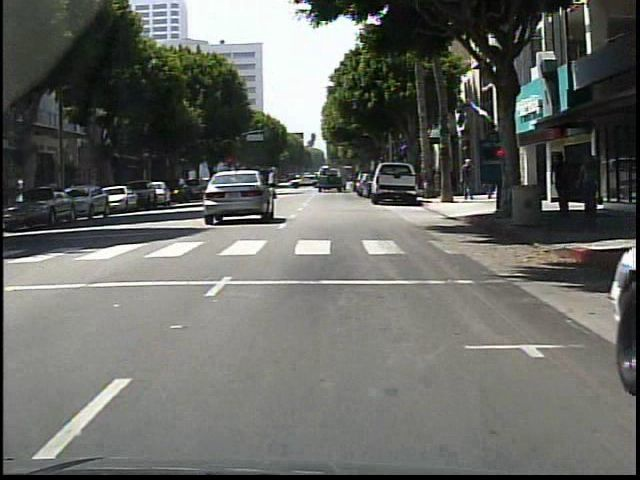person: (549, 151, 574, 214), (577, 151, 600, 217), (462, 155, 479, 199), (272, 166, 277, 201)
